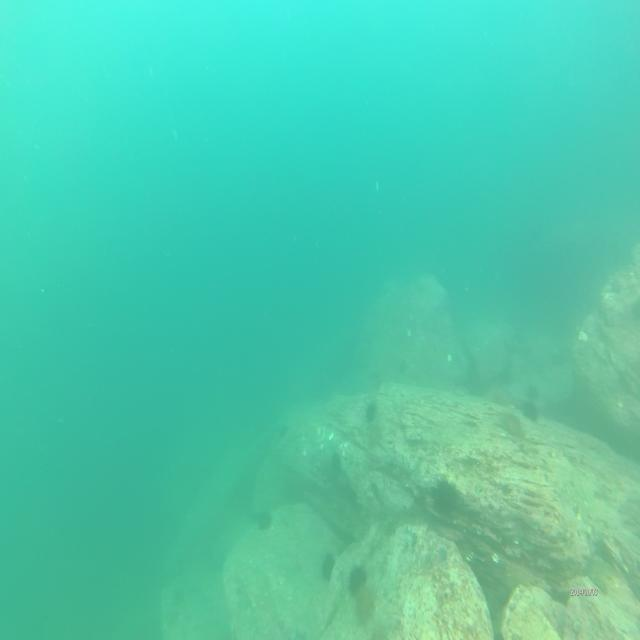echinus: (430, 474, 456, 518), (356, 584, 376, 620), (348, 562, 367, 595), (321, 552, 336, 580), (522, 400, 536, 425), (258, 509, 272, 532), (364, 400, 377, 420), (525, 384, 537, 404)
